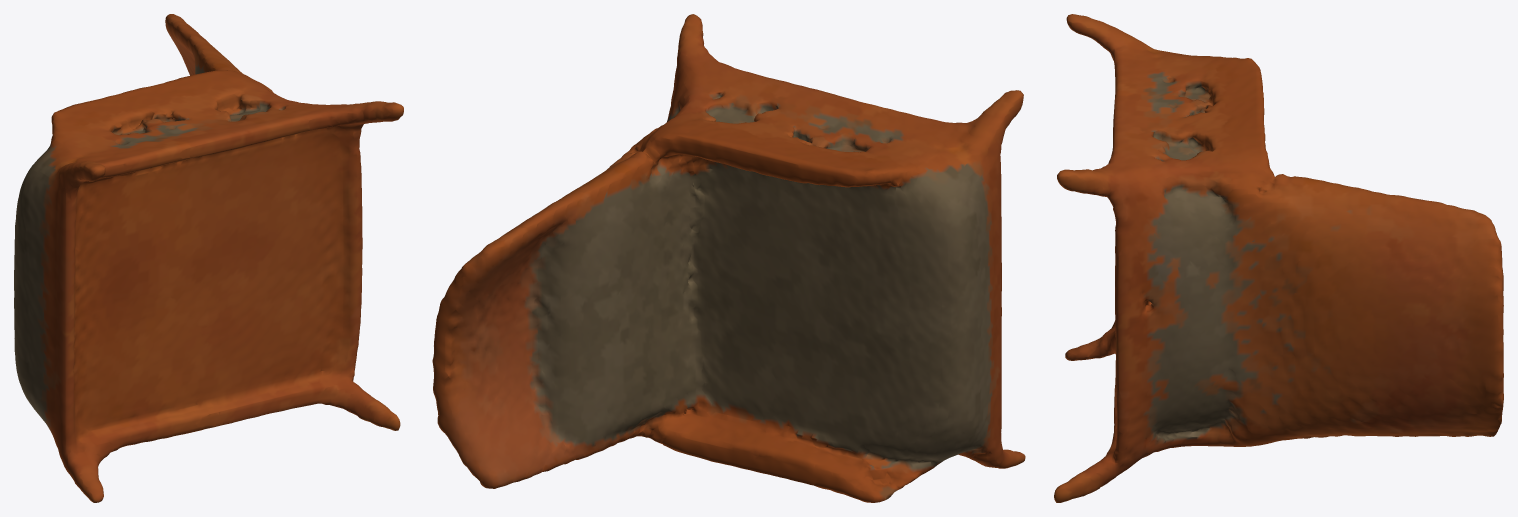
Rendered from a rocking chair, brown frame, earth colored cushio.glb.
The picture shows the model from 3 angles, left to right: view 1: azimuth 30°, elevation 25°; view 2: azimuth 150°, elevation 25°; view 3: azimuth 270°, elevation 25°; orthographic projection. The views are drawn at different scales.
Parts seen in each view (by area): view 1: a rocking chair, brown frame, earth colored cushio; view 2: a rocking chair, brown frame, earth colored cushio; view 3: a rocking chair, brown frame, earth colored cushio.
Part boxes in pixels (box(x1,y1,x2,y2)): a rocking chair, brown frame, earth colored cushio: box(14, 14, 403, 502); a rocking chair, brown frame, earth colored cushio: box(432, 14, 1025, 502); a rocking chair, brown frame, earth colored cushio: box(1054, 14, 1503, 502).
Size of the model in its own units: 0.8281 by 0.7817 by 0.9252.
